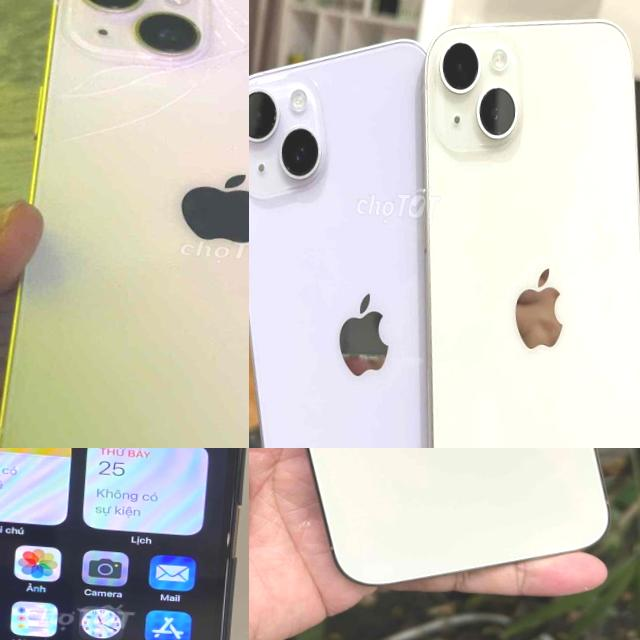gen_14: (398, 10, 640, 448), (249, 20, 438, 448), (249, 448, 640, 607)
gen_x_xs: (0, 448, 249, 640)
physical_damage: (0, 0, 249, 448), (210, 0, 249, 64), (58, 68, 104, 96), (138, 65, 170, 81), (108, 76, 144, 90), (204, 62, 232, 80), (170, 56, 203, 69), (180, 80, 205, 96), (106, 61, 132, 74), (140, 108, 167, 120), (163, 96, 185, 110), (102, 122, 125, 132), (81, 130, 105, 138), (124, 116, 141, 125), (58, 135, 78, 142)
